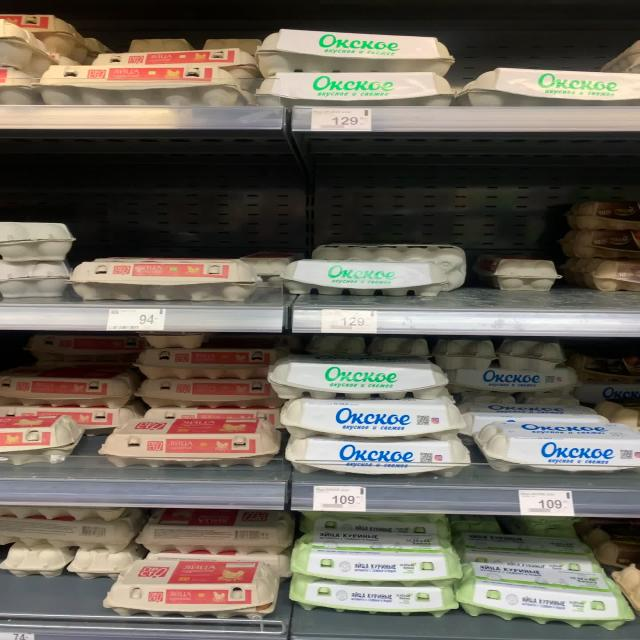egg box: (455, 562, 633, 630), (249, 25, 456, 81), (100, 560, 280, 622), (69, 254, 268, 304), (94, 418, 275, 472), (256, 63, 462, 109), (292, 530, 460, 586), (36, 65, 250, 108), (478, 418, 638, 474), (284, 432, 470, 478), (471, 63, 636, 109), (267, 357, 446, 399), (278, 400, 462, 440), (279, 262, 448, 305), (290, 574, 458, 613), (0, 368, 135, 407), (135, 375, 277, 408), (0, 406, 136, 439), (135, 347, 279, 378), (452, 366, 582, 397)
